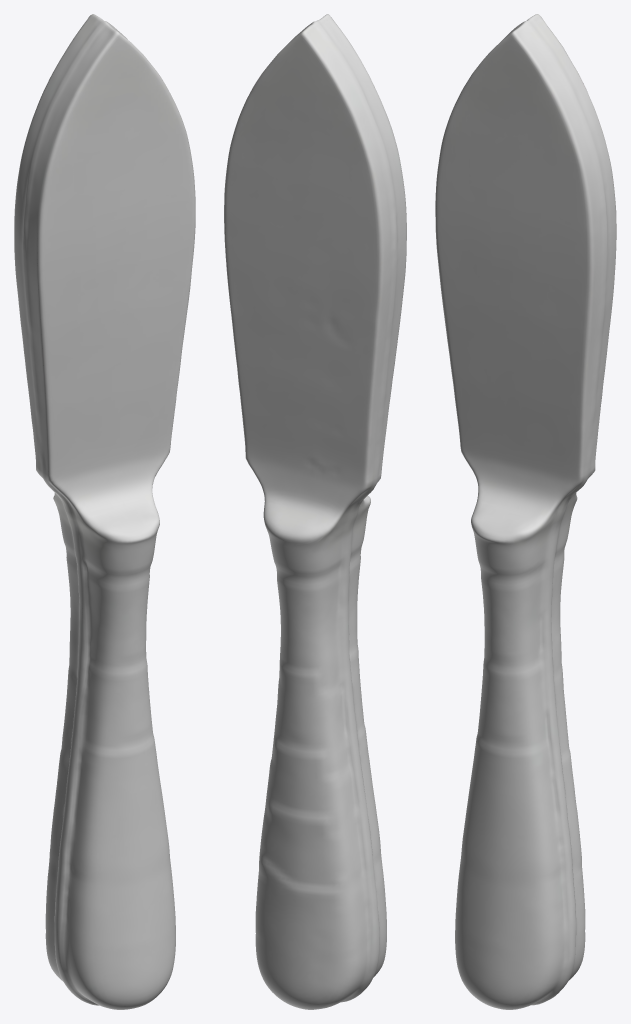
The model's file is model_fish_knife.glb.
3 renders of one model, left to right at view 1: azimuth 30°, elevation 25°; view 2: azimuth 150°, elevation 25°; view 3: azimuth 330°, elevation 25°, orthographic.
Parts seen in each view (by area): view 1: tripo_node_dfb8f50b-eef7-4a7d-8ce9-f137eadd6470; view 2: tripo_node_dfb8f50b-eef7-4a7d-8ce9-f137eadd6470; view 3: tripo_node_dfb8f50b-eef7-4a7d-8ce9-f137eadd6470.
Boxes of the visible parts, box(x1,y1,x2,y2) form: tripo_node_dfb8f50b-eef7-4a7d-8ce9-f137eadd6470: box(14, 14, 195, 1009); tripo_node_dfb8f50b-eef7-4a7d-8ce9-f137eadd6470: box(224, 14, 406, 1009); tripo_node_dfb8f50b-eef7-4a7d-8ce9-f137eadd6470: box(435, 14, 616, 1009).
Bounding box in the file's own units: 0.1731 × 0.9983 × 0.1184.
1 material, 1 textured.
